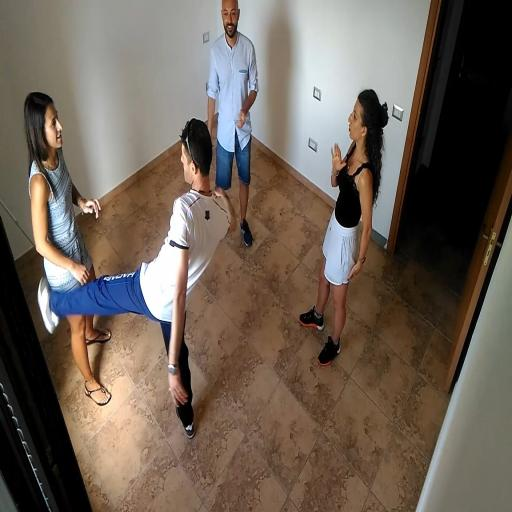violencia: (13, 84, 243, 458)
